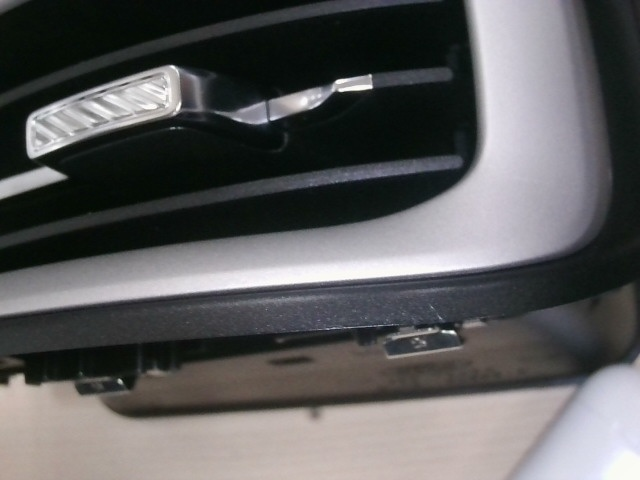NG: (418, 297, 450, 325)
